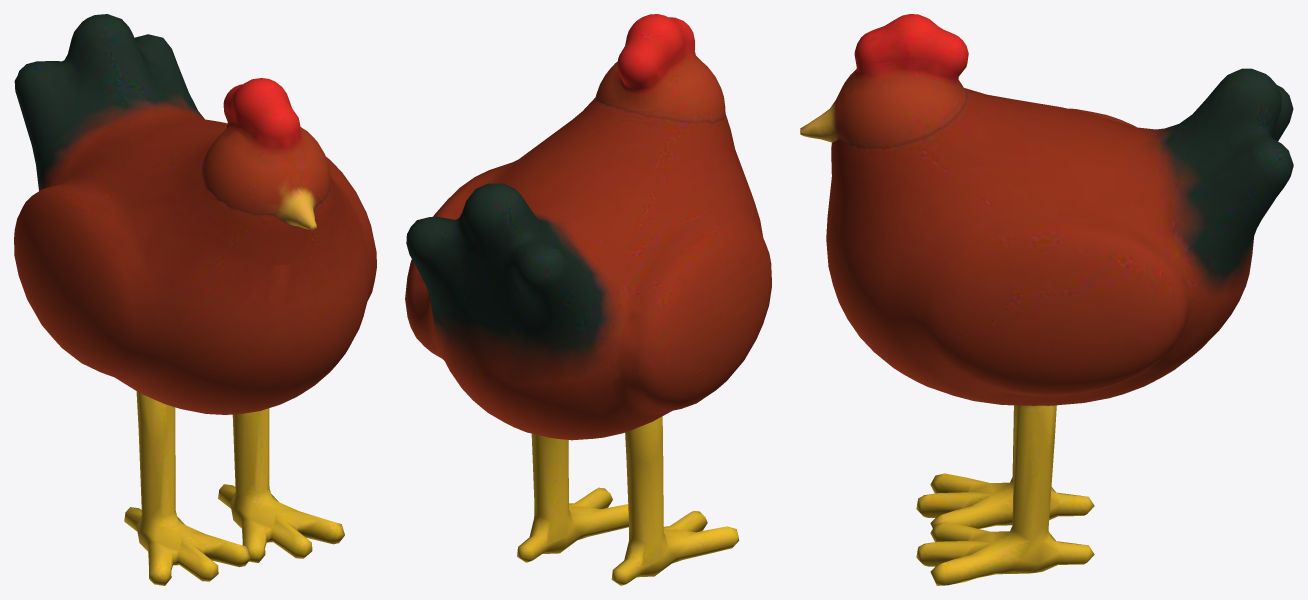
The model's file is animal_rhode_island_red.glb.
The picture shows the model from 3 angles, left to right: view 1: azimuth 30°, elevation 25°; view 2: azimuth 150°, elevation 25°; view 3: azimuth 270°, elevation 25°; orthographic projection. The views are drawn at different scales.
Visible parts, largest first — view 1: animal_rhode_island_red, head, leg0, leg1; view 2: animal_rhode_island_red, head, leg0, leg1; view 3: animal_rhode_island_red, head, leg1, leg0.
Boxes of the visible parts, x1,y1,x2,y2 form: animal_rhode_island_red: (14, 14, 376, 414); head: (202, 78, 330, 230); leg0: (124, 391, 250, 585); leg1: (218, 408, 344, 562); animal_rhode_island_red: (405, 97, 771, 440); head: (595, 14, 725, 122); leg0: (611, 416, 739, 585); leg1: (517, 433, 628, 562); animal_rhode_island_red: (826, 68, 1293, 405); head: (800, 14, 968, 148); leg1: (916, 405, 1094, 585); leg0: (916, 405, 1094, 528).
Bounding box in the file's own units: 0.1847 × 0.3066 × 0.2577.
1 material, 1 textured.
